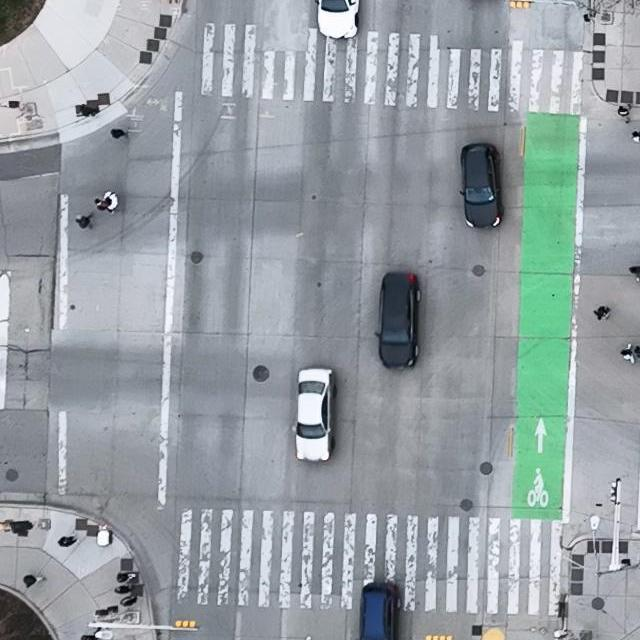car: (374, 271, 422, 369), (292, 368, 337, 461), (460, 142, 503, 230), (358, 583, 401, 640), (313, 0, 361, 39)
